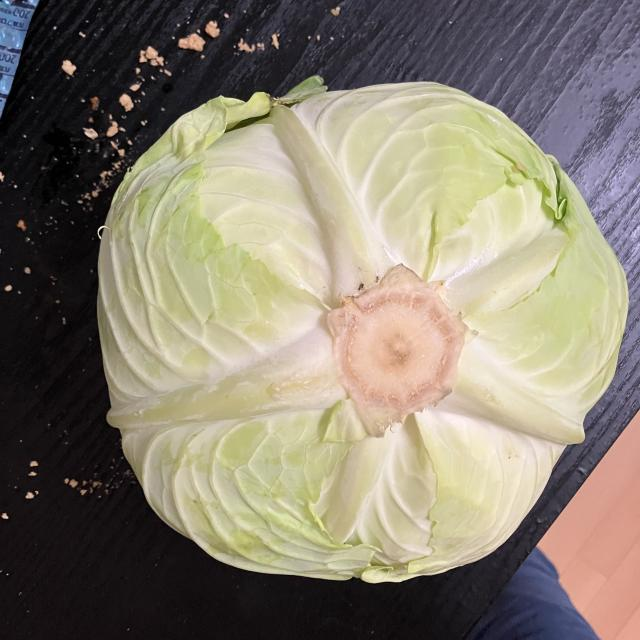cabbage: (92, 73, 632, 592)
